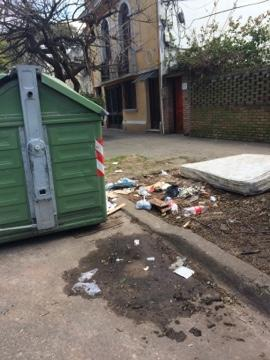Dechets: (107, 178, 220, 228), (181, 154, 269, 195), (72, 263, 106, 299), (168, 252, 195, 281), (128, 234, 144, 247)
Trash: (2, 61, 114, 255)
